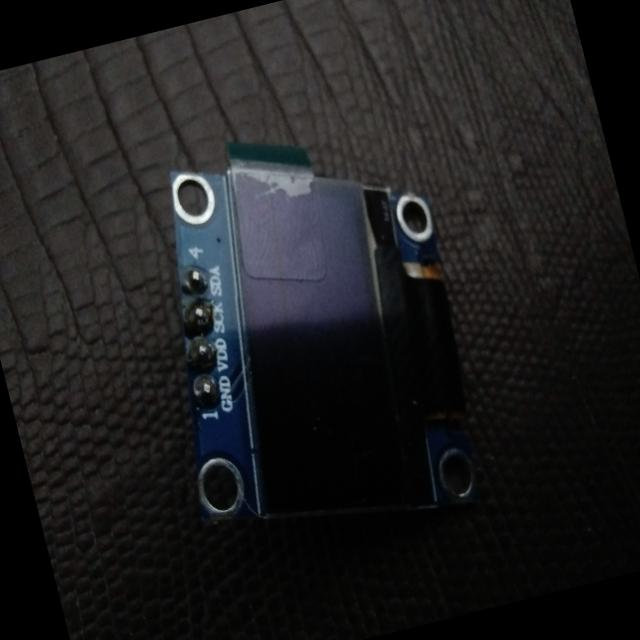oled: (112, 91, 513, 594)
